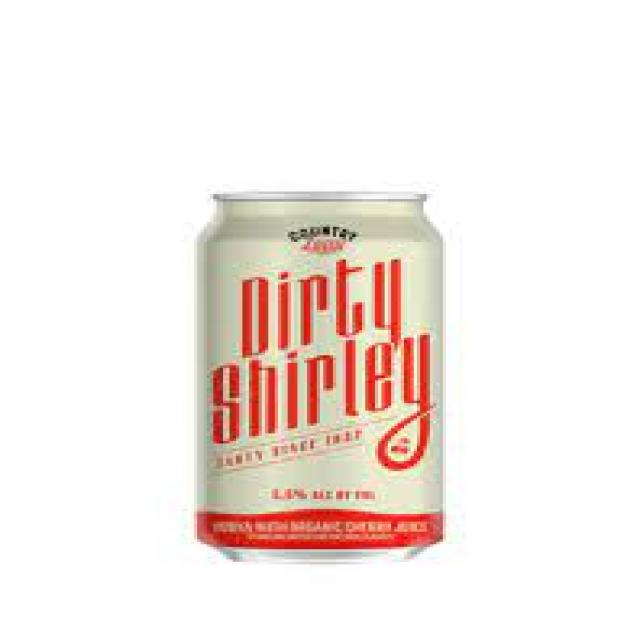Cans: (181, 184, 462, 564)
